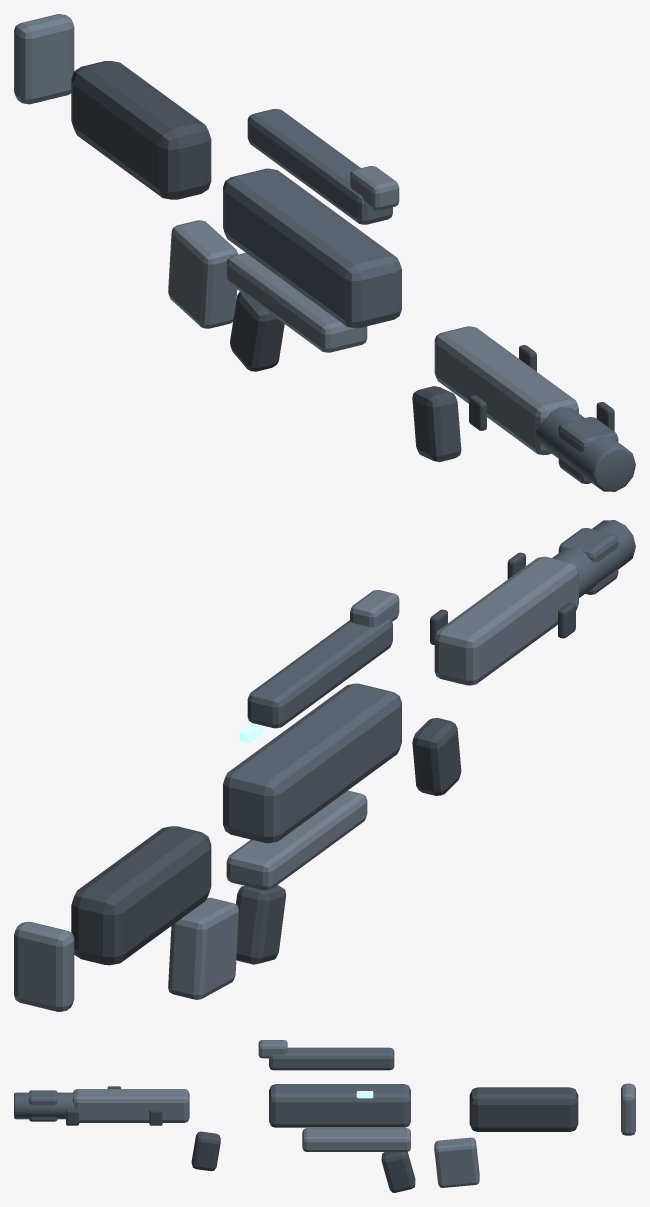
Rendered from p1_rifle.glb.
3 views of the same model, one above another, from view 1: azimuth 30°, elevation 25°; view 2: azimuth 150°, elevation 25°; view 3: azimuth 270°, elevation 25° (orthographic). The views are drawn at different scales.
Parts seen in each view (by area): view 1: receiver, stock, barrel_shroud, carry_handle, magazine, receiver_lower, buttplate, barrel, grip_fore, grip_pistol, sight_block, muzzle_brake; view 2: receiver, stock, barrel_shroud, carry_handle, receiver_lower, magazine, buttplate, grip_pistol, grip_fore, barrel, muzzle_brake, sight_block; view 3: receiver, stock, barrel_shroud, carry_handle, receiver_lower, magazine, barrel, grip_pistol, grip_fore, buttplate, muzzle_brake, sight_block.
Boxes of the visible parts, bbox=[...] form: receiver: bbox=[223, 168, 401, 328]; stock: bbox=[71, 61, 211, 199]; barrel_shroud: bbox=[434, 326, 578, 455]; carry_handle: bbox=[247, 109, 392, 224]; magazine: bbox=[168, 220, 238, 328]; receiver_lower: bbox=[226, 253, 367, 352]; buttplate: bbox=[14, 14, 74, 104]; barrel: bbox=[535, 406, 635, 491]; grip_fore: bbox=[412, 386, 461, 462]; grip_pistol: bbox=[230, 291, 284, 371]; sight_block: bbox=[350, 166, 399, 210]; muzzle_brake: bbox=[558, 417, 618, 483]; receiver: bbox=[223, 683, 401, 843]; stock: bbox=[71, 826, 211, 965]; barrel_shroud: bbox=[434, 556, 578, 685]; carry_handle: bbox=[247, 619, 392, 728]; receiver_lower: bbox=[226, 790, 367, 890]; magazine: bbox=[168, 897, 238, 999]; buttplate: bbox=[14, 921, 74, 1011]; grip_pistol: bbox=[236, 885, 285, 964]; grip_fore: bbox=[412, 718, 461, 795]; barrel: bbox=[552, 520, 635, 597]; muzzle_brake: bbox=[558, 528, 618, 594]; sight_block: bbox=[350, 590, 399, 627]; receiver: bbox=[269, 1084, 410, 1127]; stock: bbox=[469, 1087, 578, 1131]; barrel_shroud: bbox=[72, 1089, 189, 1122]; carry_handle: bbox=[269, 1047, 394, 1070]; receiver_lower: bbox=[302, 1128, 410, 1151]; magazine: bbox=[434, 1137, 479, 1187]; barrel: bbox=[14, 1092, 75, 1119]; grip_pistol: bbox=[381, 1152, 415, 1192]; grip_fore: bbox=[191, 1131, 220, 1171]; buttplate: bbox=[621, 1083, 635, 1135]; muzzle_brake: bbox=[28, 1090, 57, 1121]; sight_block: bbox=[258, 1040, 287, 1058].
Size of the model in its own units: 0.072 by 0.1957 by 0.744.
